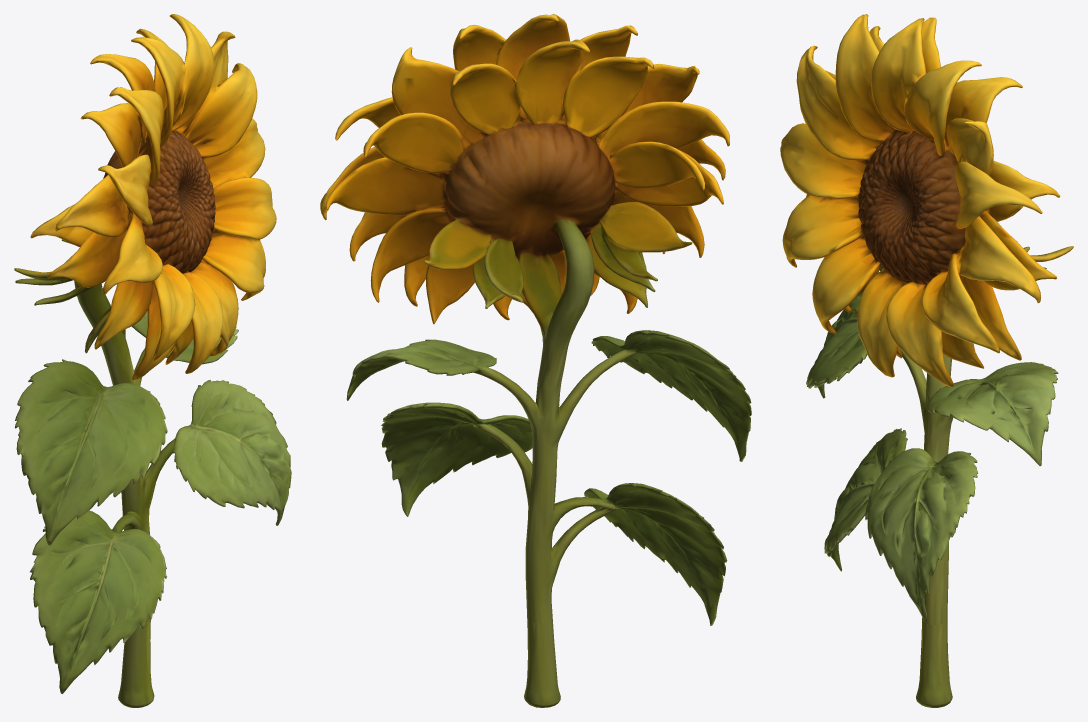
Rendered from sunflower-new.glb.
3 renders of one model, left to right at view 1: azimuth 30°, elevation 25°; view 2: azimuth 150°, elevation 25°; view 3: azimuth 270°, elevation 25°, orthographic.
Parts seen in each view (by area): view 1: Top_tripo_node_67565913, Base_tripo_node_67565913; view 2: Top_tripo_node_67565913, Base_tripo_node_67565913; view 3: Top_tripo_node_67565913, Base_tripo_node_67565913.
Boxes of the visible parts, x1,y1,x2,y2 form: Top_tripo_node_67565913: [14, 14, 291, 693]; Base_tripo_node_67565913: [118, 620, 154, 707]; Top_tripo_node_67565913: [320, 14, 751, 625]; Base_tripo_node_67565913: [524, 619, 560, 707]; Top_tripo_node_67565913: [780, 14, 1073, 624]; Base_tripo_node_67565913: [916, 620, 952, 707].
Size of the model in its own units: 0.8199 by 1.6 by 0.6242.
Materials: 1 (1 with a texture image).
